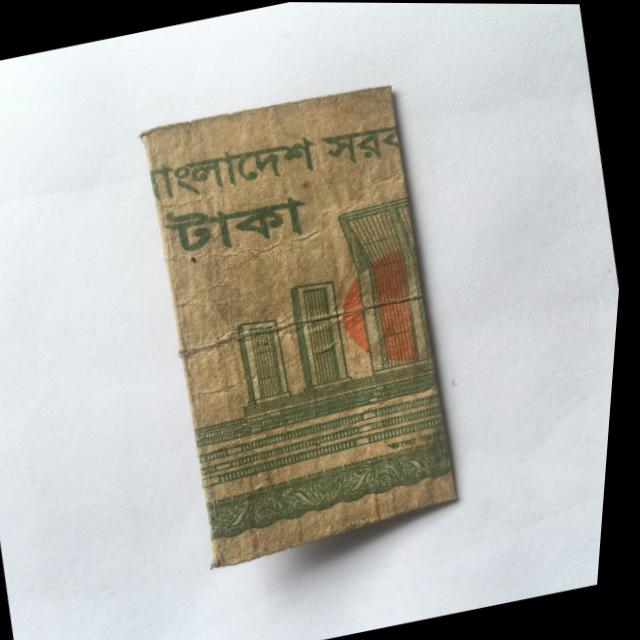Taka: (97, 65, 518, 570)
